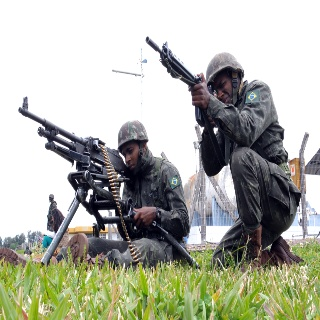rifle: (15, 95, 201, 271), (145, 35, 217, 126)
